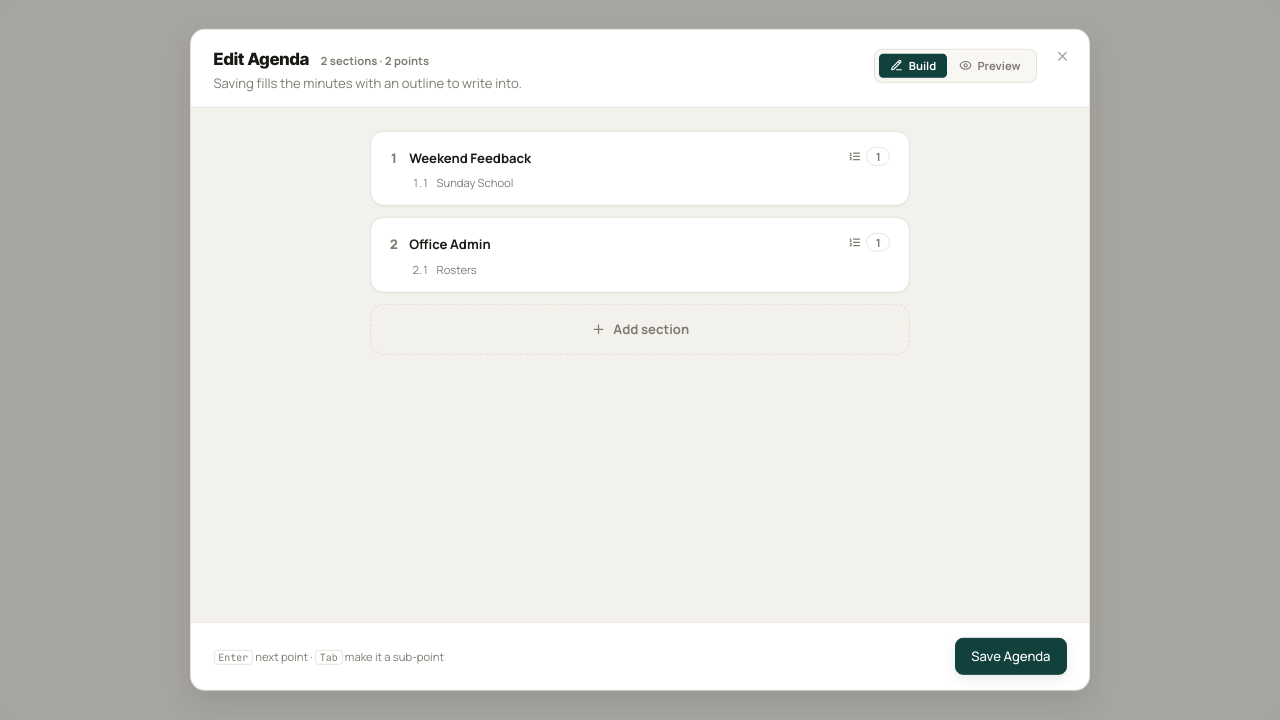
Test: MeetingAgendaModal › rests every written section as a summary card and opens one on click
Expected: the text "Weekend Feedback" is shown, [409, 149, 531, 167]
Expected: the text "Sunday School" is shown, [437, 175, 513, 190]
What coordinates should you click on to do the following:
click the button with aria-label "edit section 1"
I would click on:
 (470, 158)
Its box is [371, 132, 909, 205].
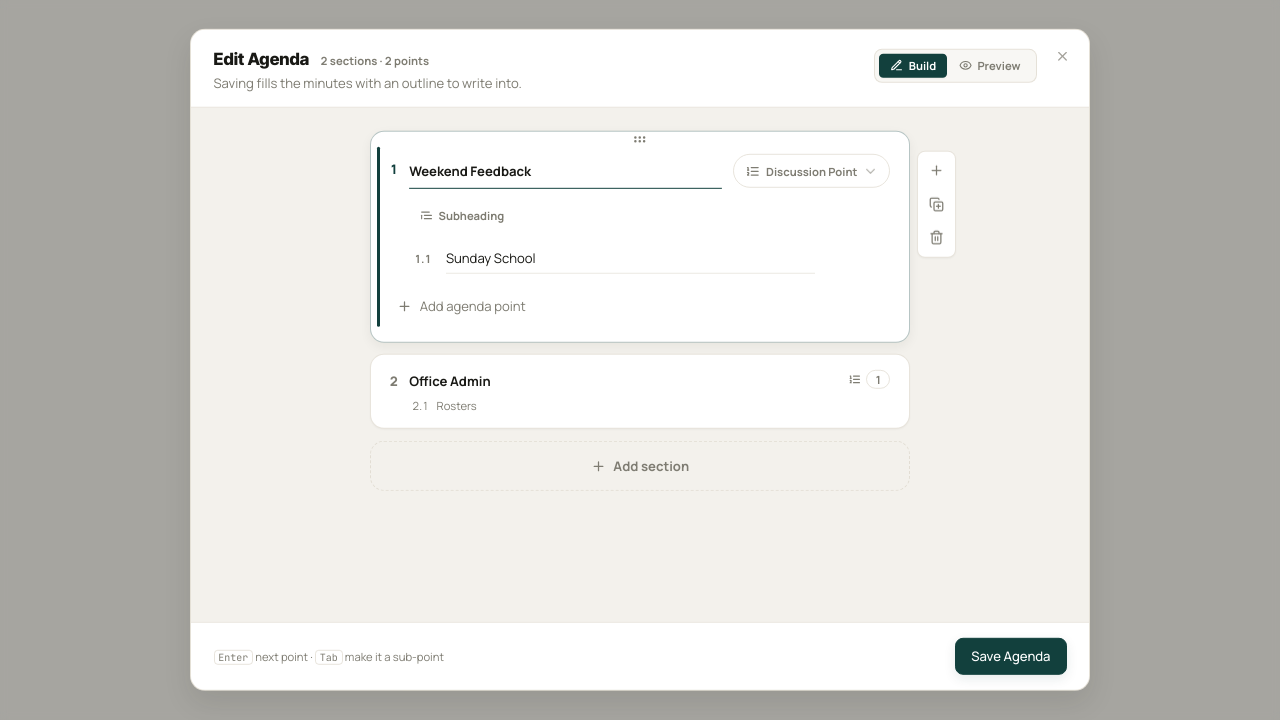
Result: the field named "section 1 heading" is shown at [409, 154, 722, 188]
